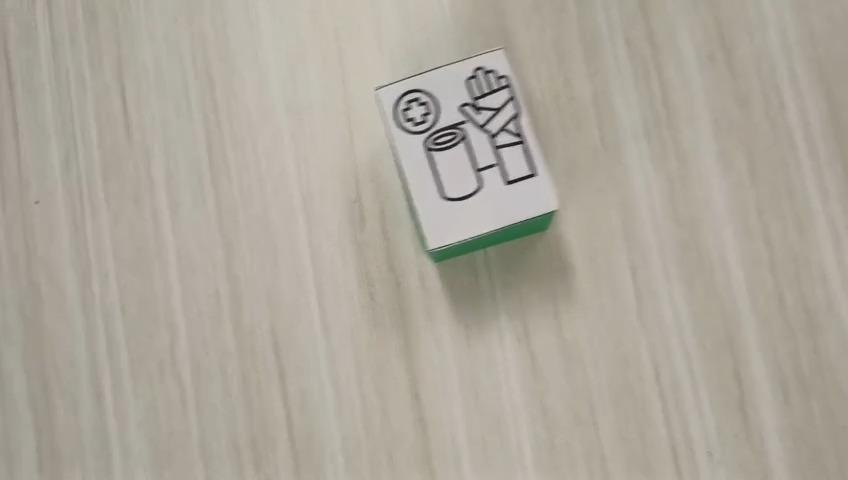Bandages: (373, 46, 560, 262)
